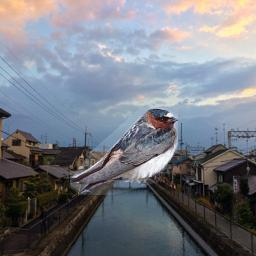Swallow: (70, 108, 178, 195)
